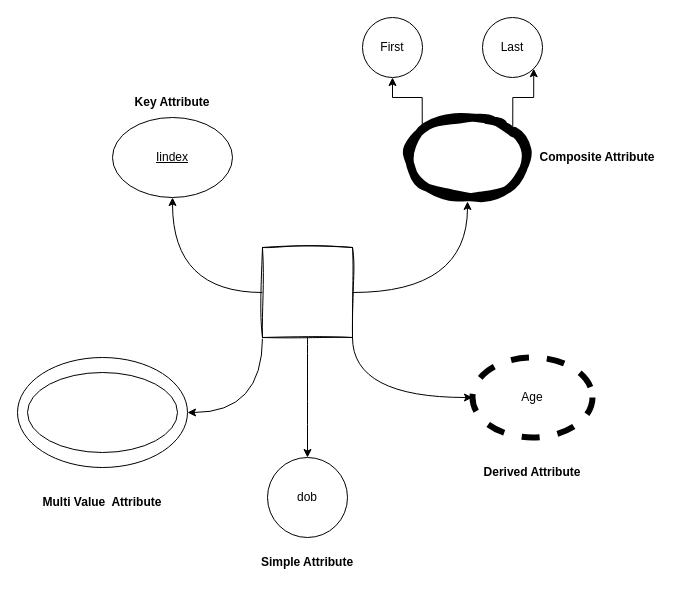
Image size: 685x595. Some labels were removed from this diagram. The shapes that lost their labels are listed below. From the top down, each one's centre as x and y in pixels, then its label:
At point (467, 157): "Name".
At point (307, 292): "STUDENT".
At point (102, 412): "Address".
